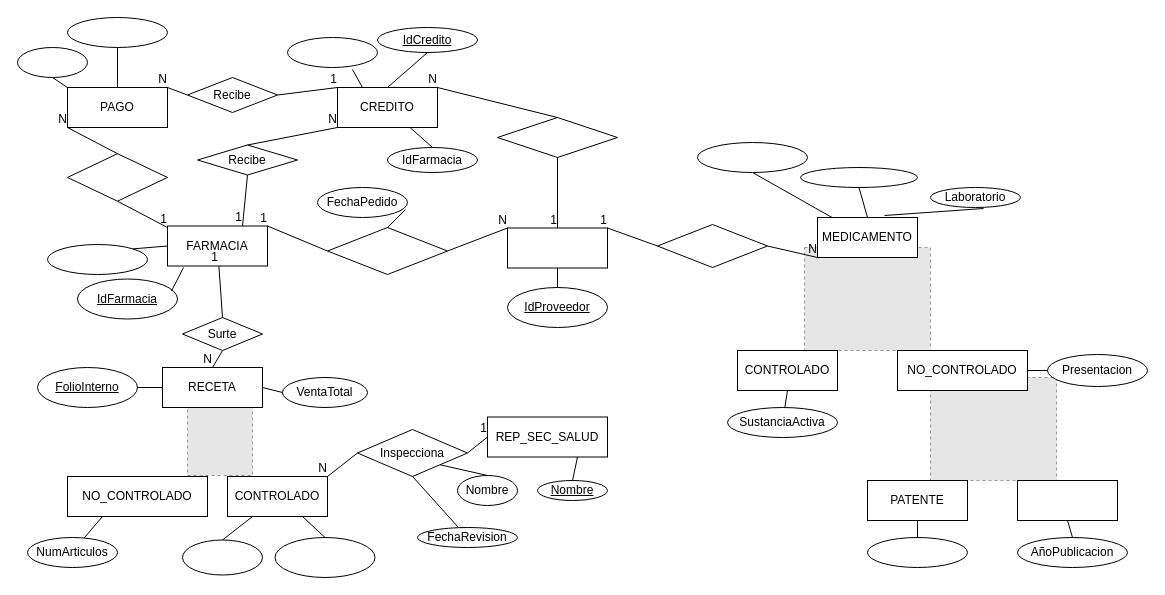
This 1165x595 diagram has some shape labels left out. Grey dashed boxes stand in for pictures. The box of each missing label's shape, as (x1, y1, x2, y2) in pixels:
CodigoBarras: (696, 142, 808, 172)
Compra: (326, 226, 448, 274)
CopiaReceta: (182, 539, 262, 575)
Es surtido: (656, 224, 768, 268)
GENERICO: (1016, 480, 1118, 520)
MesesCredito: (286, 36, 378, 68)
Monto: (16, 46, 88, 78)
NombreComercial: (800, 166, 918, 188)
NumeroPago: (66, 16, 168, 48)
NumeroPatente: (866, 536, 968, 568)
Otorga: (496, 116, 618, 158)
PROVEEDOR: (506, 227, 608, 268)
Realiza: (66, 153, 168, 201)
RFC_Medico: (274, 536, 375, 578)
ubicacion: (46, 244, 148, 274)
